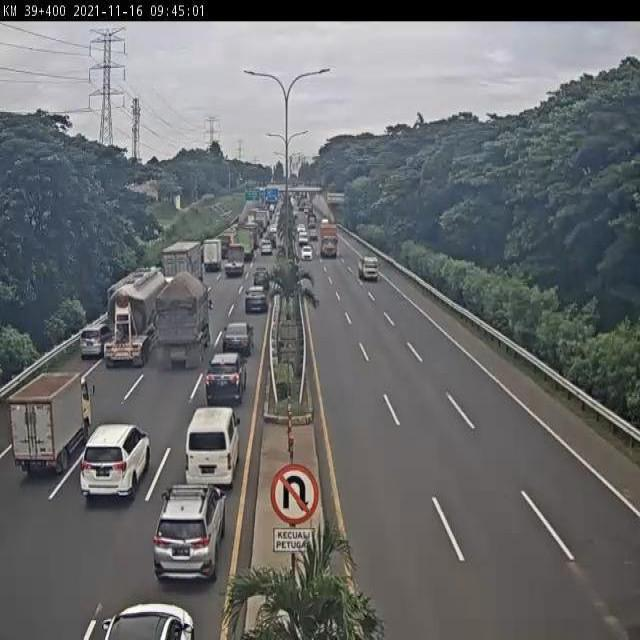car: (152, 488, 225, 581), (82, 424, 151, 497), (205, 354, 246, 406), (76, 323, 113, 360), (223, 319, 256, 353), (245, 289, 269, 316), (251, 268, 269, 293)
truck: (12, 373, 91, 472), (103, 267, 174, 371), (151, 276, 211, 373), (183, 412, 239, 492), (158, 242, 203, 306), (199, 237, 221, 275), (220, 247, 244, 281)
